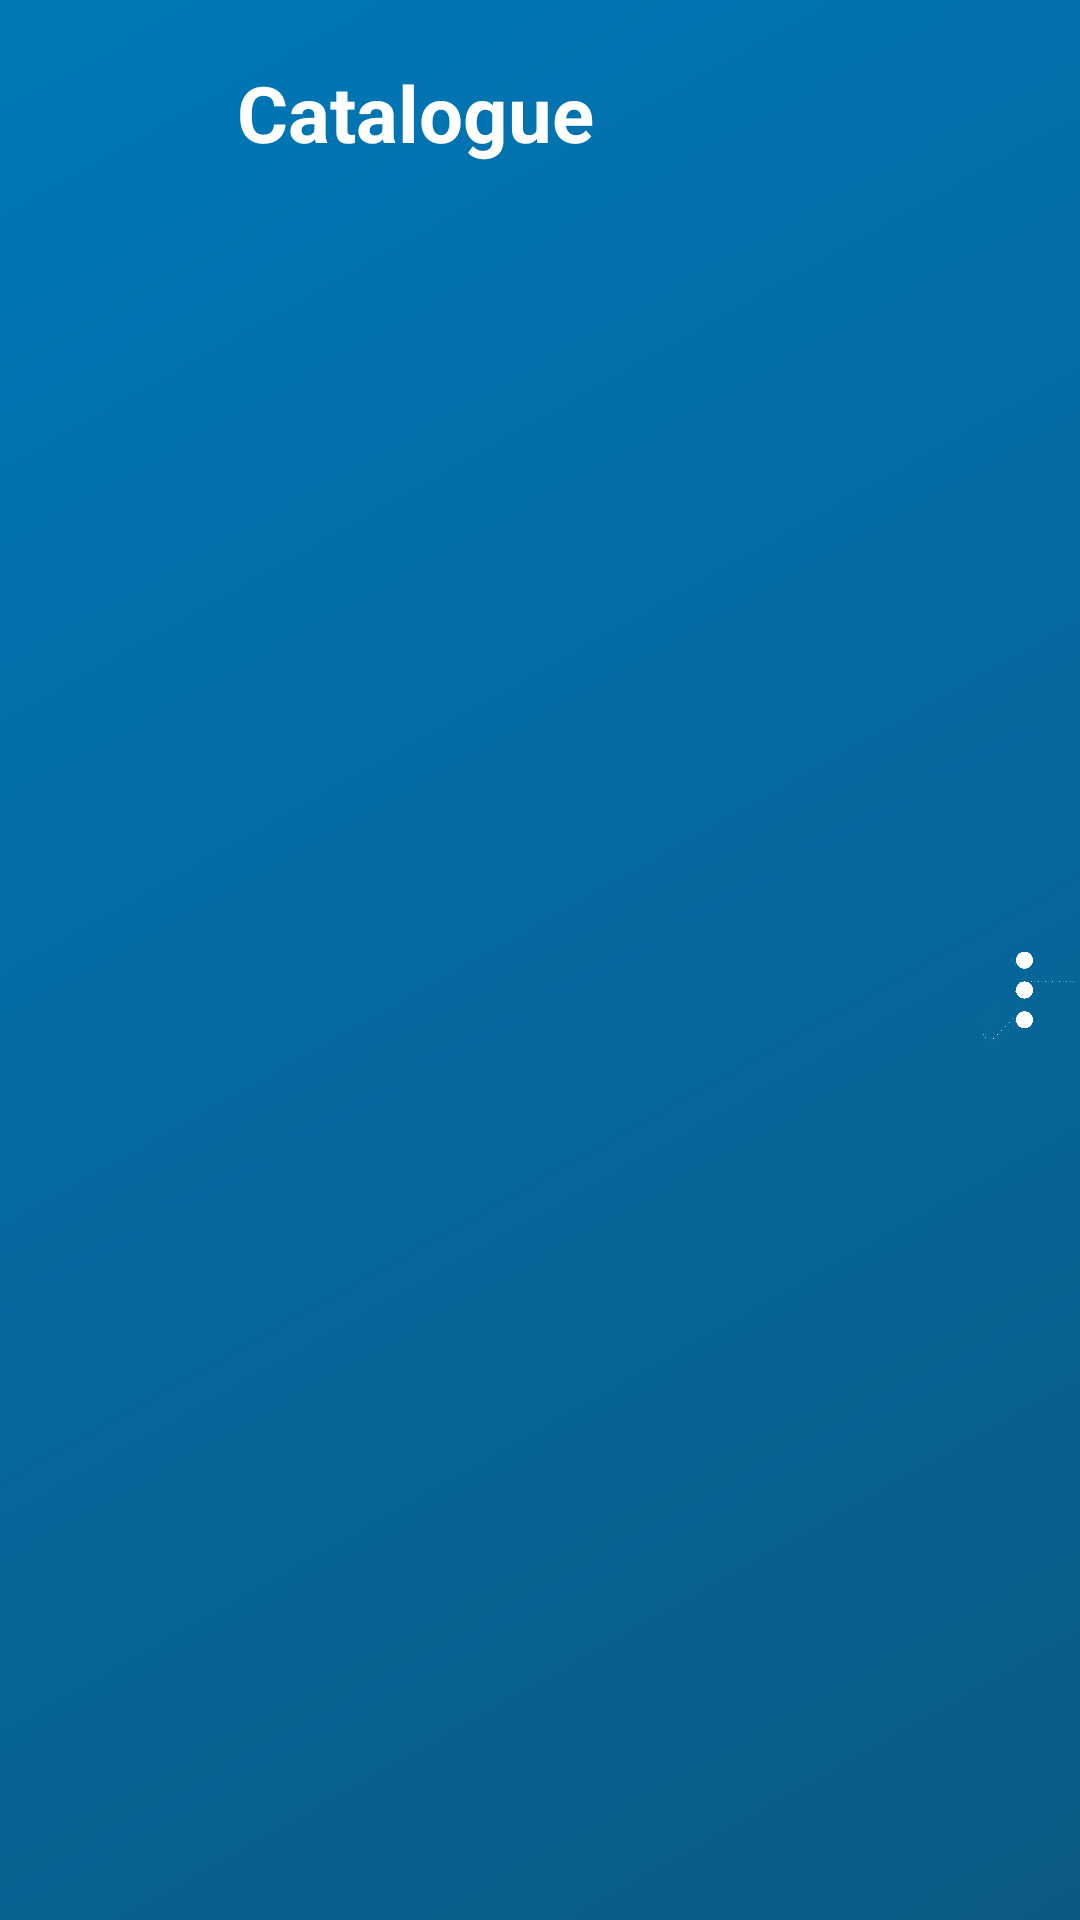

Screen size 1080w x 1920h. Icon name, then its center in pixels as point (x, y):
settings menu: point (1028, 995)
